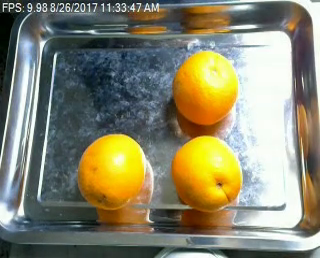Orange: (76, 133, 146, 210), (173, 135, 243, 211), (172, 48, 240, 124)
